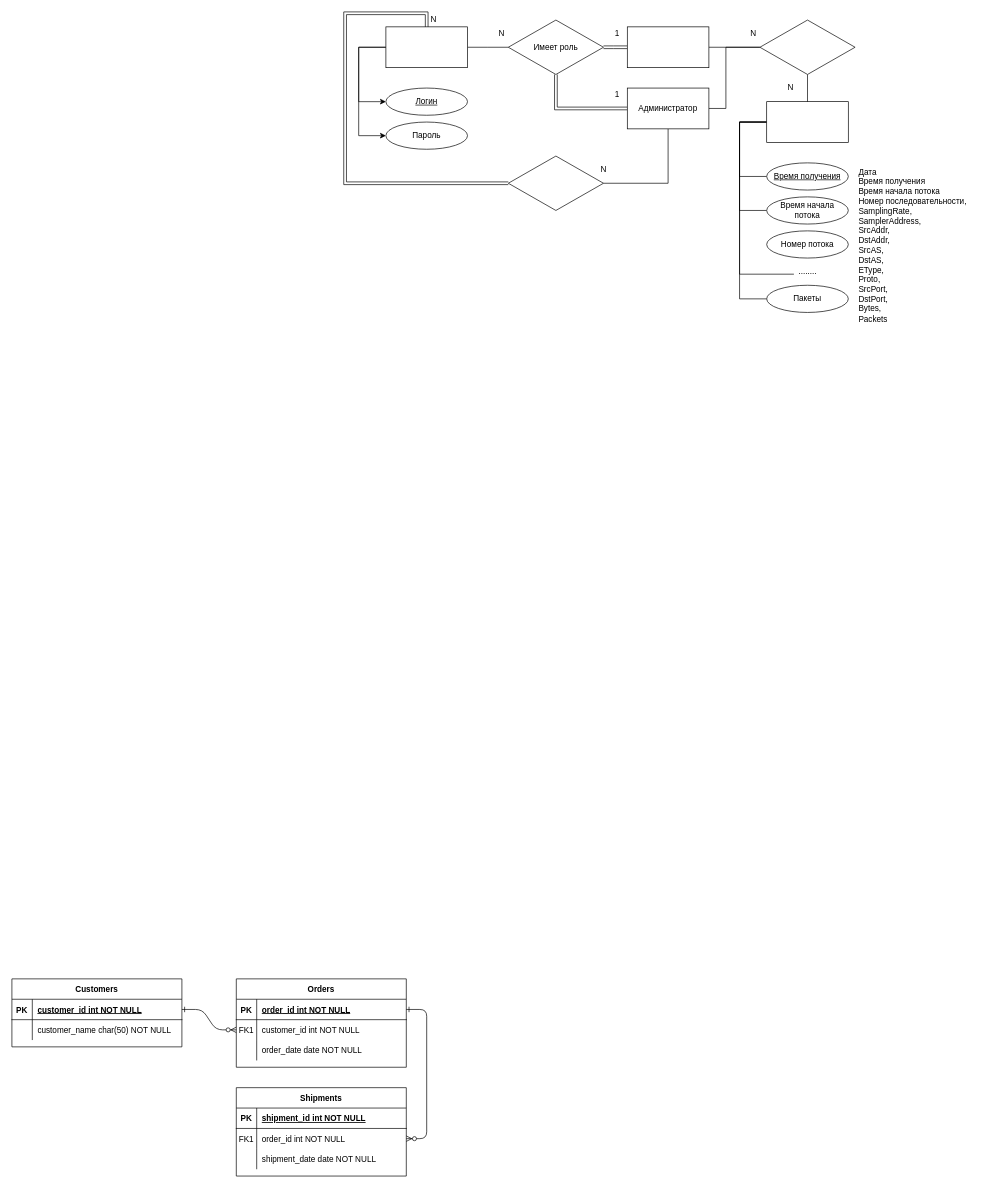
The diagram is 996 pixels wide and 1188 high, and some of its shapes have lost their labels. The shapes that lost their labels are listed below. From the top down, each one's centre as x and y in pixels, then its label:
At pixel 426 47: "Пользователь".
At pixel 668 47: "Аналитик".
At pixel 807 46: "Получает доступ на чтение".
At pixel 807 121: "Поток".
At pixel 556 182: "Управляет".
